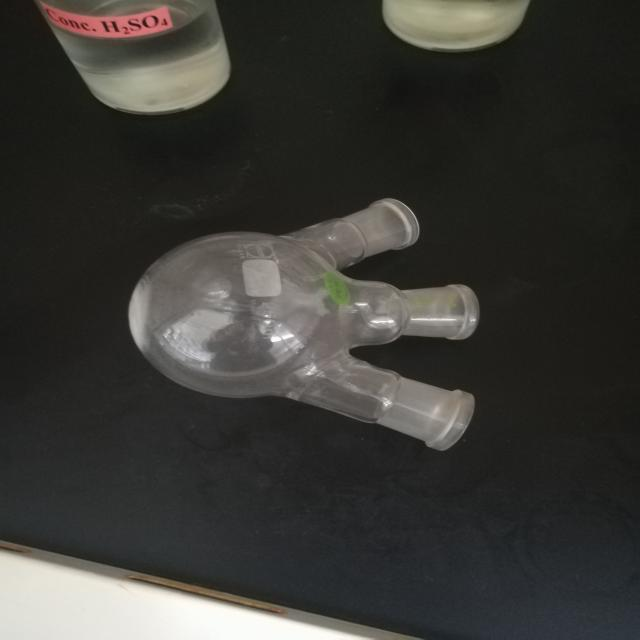Round_Bottom_Flask_Borosilicate_Glass_3_Neck: (82, 176, 509, 496)
